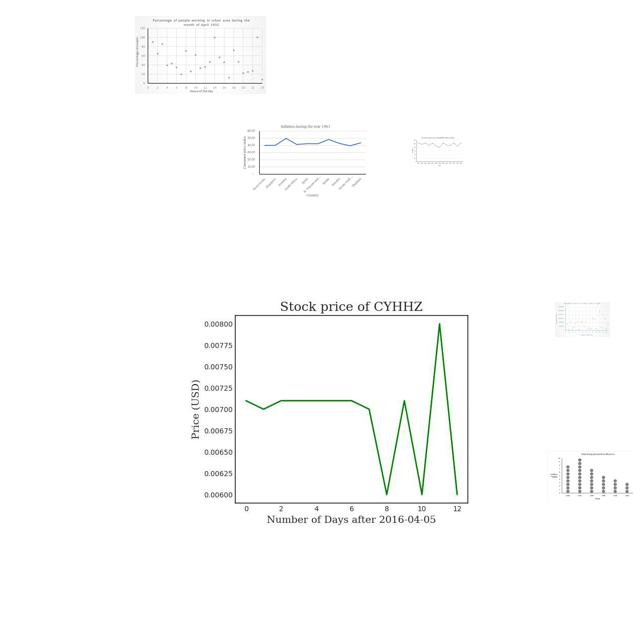Graph: (185, 286, 510, 530), (135, 16, 266, 94), (242, 123, 368, 198), (547, 451, 635, 502), (555, 302, 610, 337), (411, 136, 464, 167)
